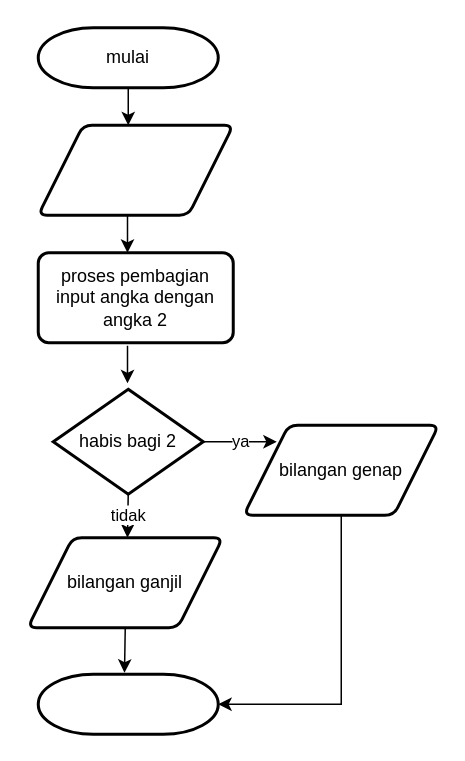
This 465x761 diagram has some shape labels left out. The box of each missing label's shape, as (x1, y1, x2, y2) in pixels:
input angka: (36, 123, 234, 216)
selesai: (36, 672, 219, 735)
